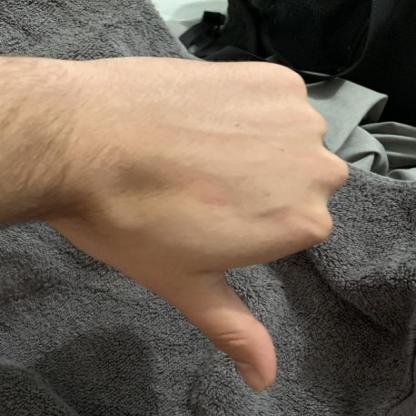Thumbs-Down: (13, 39, 360, 411)
